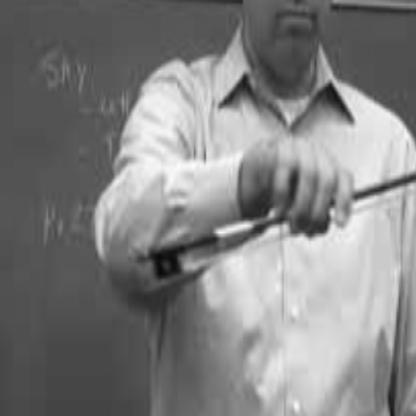good: (269, 126, 357, 240)
